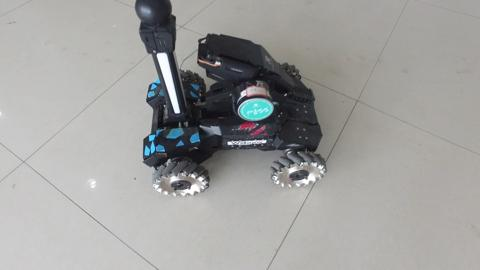chariot: (113, 16, 334, 187)
